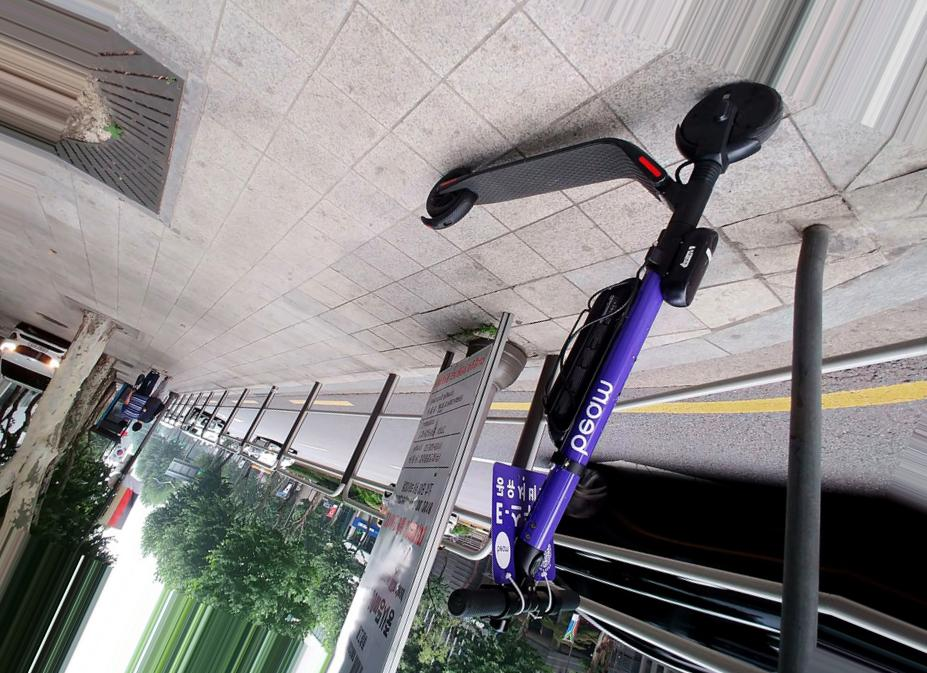scooter: (420, 77, 783, 634)
